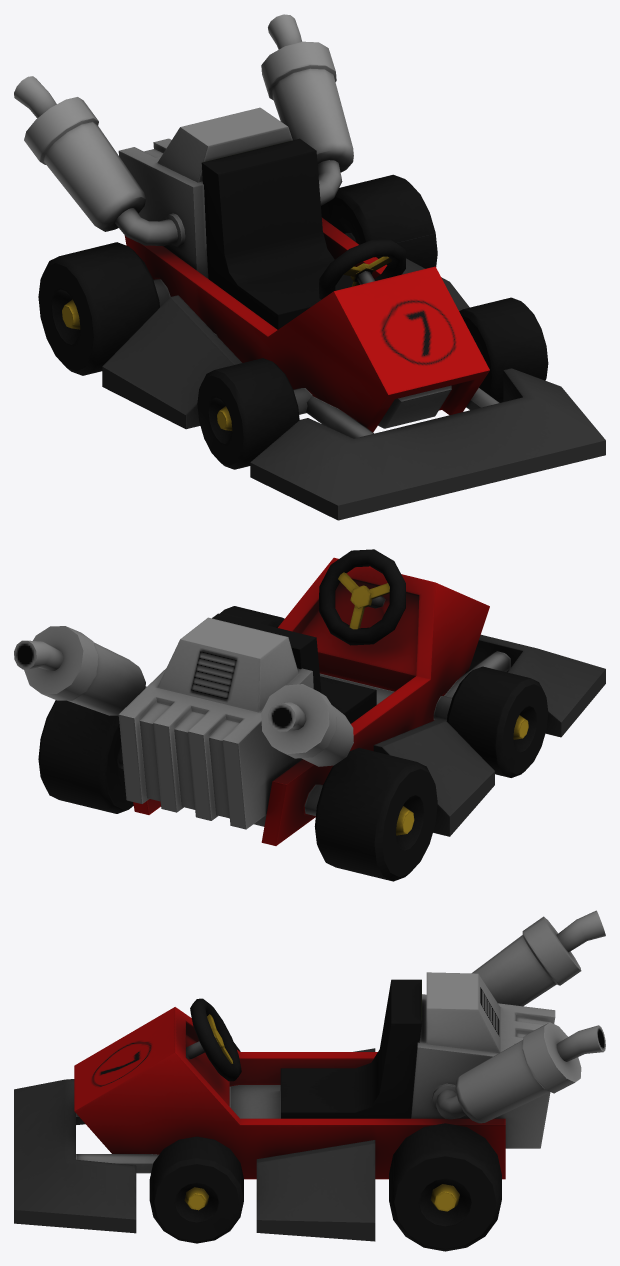
Rendered from Cart Toy Red.fbx.
The picture shows the model from 3 angles, top to bottom: view 1: azimuth 30°, elevation 25°; view 2: azimuth 150°, elevation 25°; view 3: azimuth 270°, elevation 25°; orthographic projection. The views are drawn at different scales.
Parts seen in each view (by area): view 1: Base, Rear_Axle, Right_Tire, Left_Tire, Steering_Wheel; view 2: Base, Rear_Axle, Right_Tire, Steering_Wheel, Left_Tire; view 3: Base, Rear_Axle, Left_Tire, Steering_Wheel.
Boxes of the visible parts, left/top/right/bottom form: Base: left=14, top=14, right=605, bottom=520; Rear_Axle: left=38, top=174, right=437, bottom=375; Right_Tire: left=197, top=358, right=312, bottom=469; Left_Tire: left=459, top=297, right=548, bottom=402; Steering_Wheel: left=319, top=239, right=405, bottom=299; Base: left=14, top=557, right=605, bottom=845; Rear_Axle: left=38, top=700, right=437, bottom=881; Right_Tire: left=433, top=666, right=548, bottom=777; Steering_Wheel: left=319, top=549, right=405, bottom=645; Left_Tire: left=220, top=606, right=284, bottom=627; Base: left=14, top=910, right=605, bottom=1241; Rear_Axle: left=389, top=1123, right=501, bottom=1251; Left_Tire: left=149, top=1136, right=243, bottom=1243; Steering_Wheel: left=186, top=998, right=241, bottom=1081.
Size of the model in its own units: 34.11 by 21.14 by 54.58.
1 material, 1 textured.
